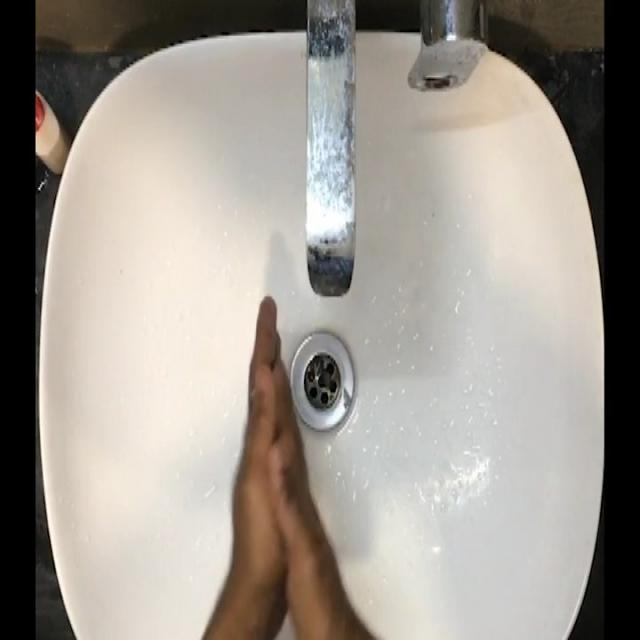step_1: (202, 283, 342, 612)
